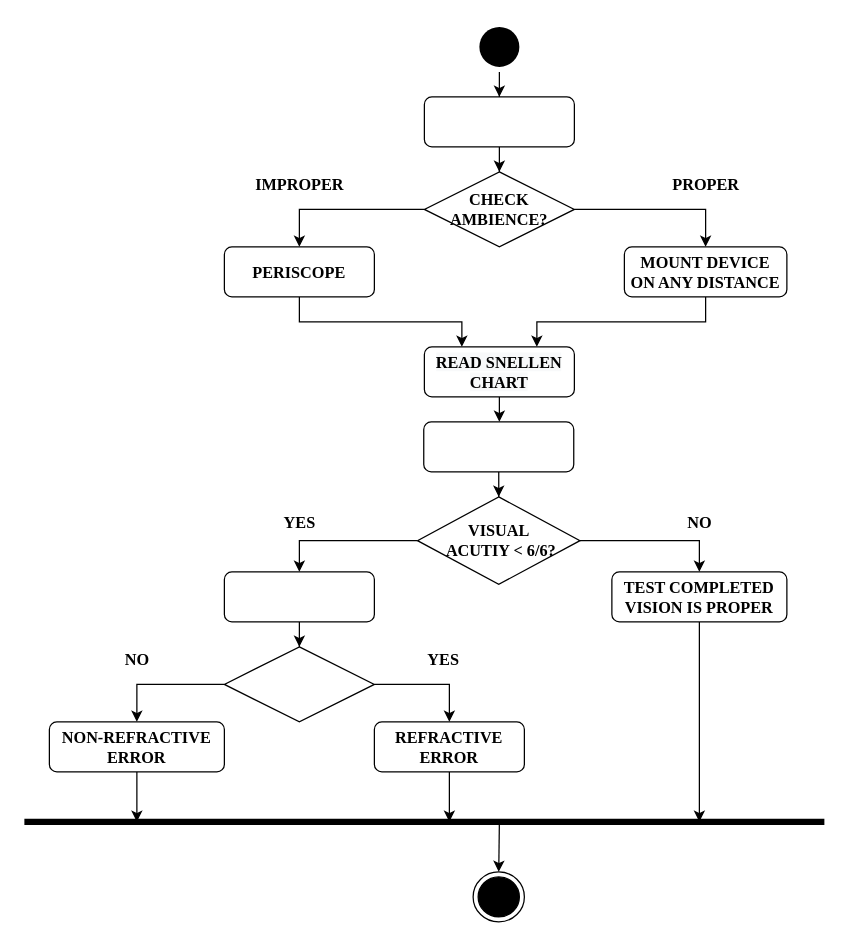
Image size: 850x944. Some labels were removed from this diagram. Here are the shapes that lost their labels. From the top down, the centre of each, then its label:
the point at 498,121: REGISTER PATIENT
the point at 498,446: CALCULATE VISUAL ACUITY
the point at 298,596: USE PINHOLE OCCLUDER
the point at 298,684: VISION IMPROVED?
